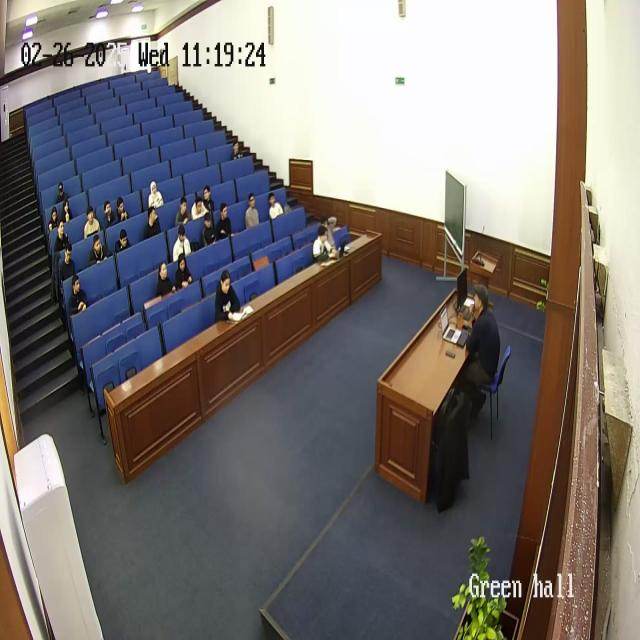person: (459, 284, 501, 401), (214, 268, 240, 321), (57, 243, 77, 289), (153, 258, 174, 298), (312, 223, 334, 261), (69, 275, 87, 318), (174, 251, 194, 289), (173, 223, 192, 263), (321, 212, 337, 258), (88, 234, 108, 266), (144, 205, 162, 240), (54, 219, 70, 255), (244, 192, 260, 228), (201, 212, 217, 247), (216, 204, 232, 239), (190, 191, 208, 221), (84, 205, 100, 238), (267, 190, 284, 220), (101, 199, 118, 229), (147, 180, 164, 210), (176, 195, 190, 228), (115, 227, 131, 253), (114, 197, 130, 223), (202, 184, 214, 214), (48, 207, 60, 232), (61, 200, 73, 224), (55, 182, 67, 206), (231, 140, 243, 160)
